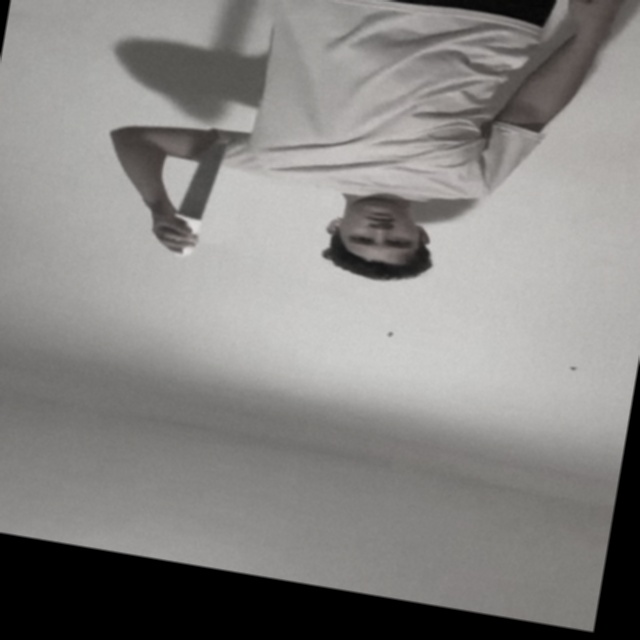Sharp-Object: (181, 140, 230, 221)
